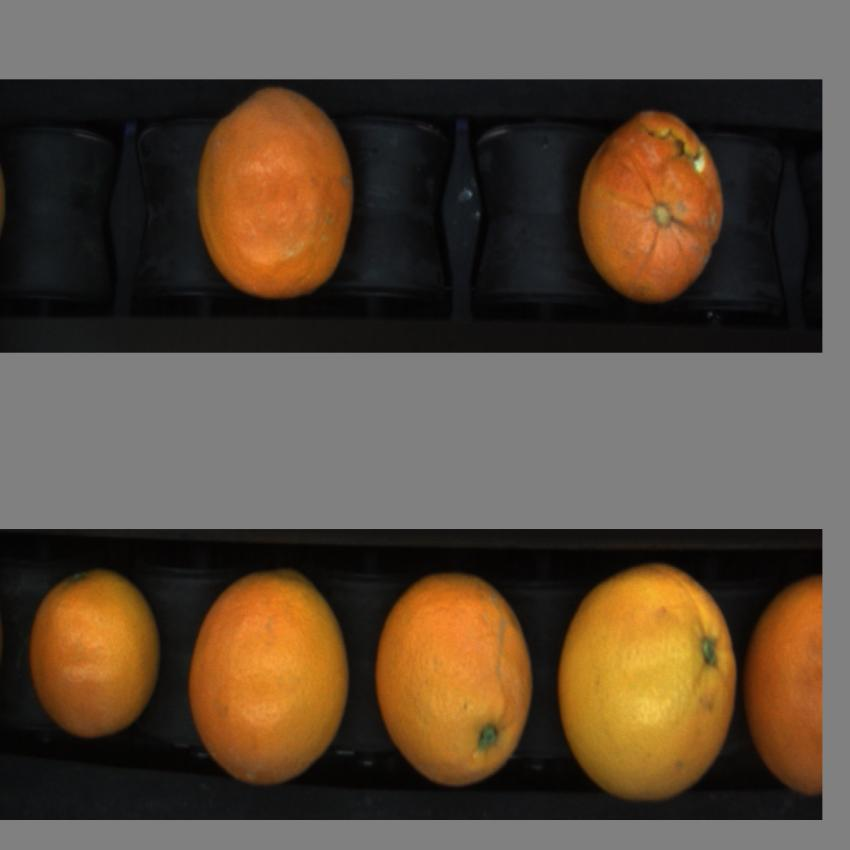Buen estado: (554, 563, 742, 811), (184, 566, 355, 790), (191, 82, 364, 303), (375, 571, 539, 786), (24, 560, 168, 742), (748, 574, 822, 803)
Mal estado: (572, 104, 733, 308)
